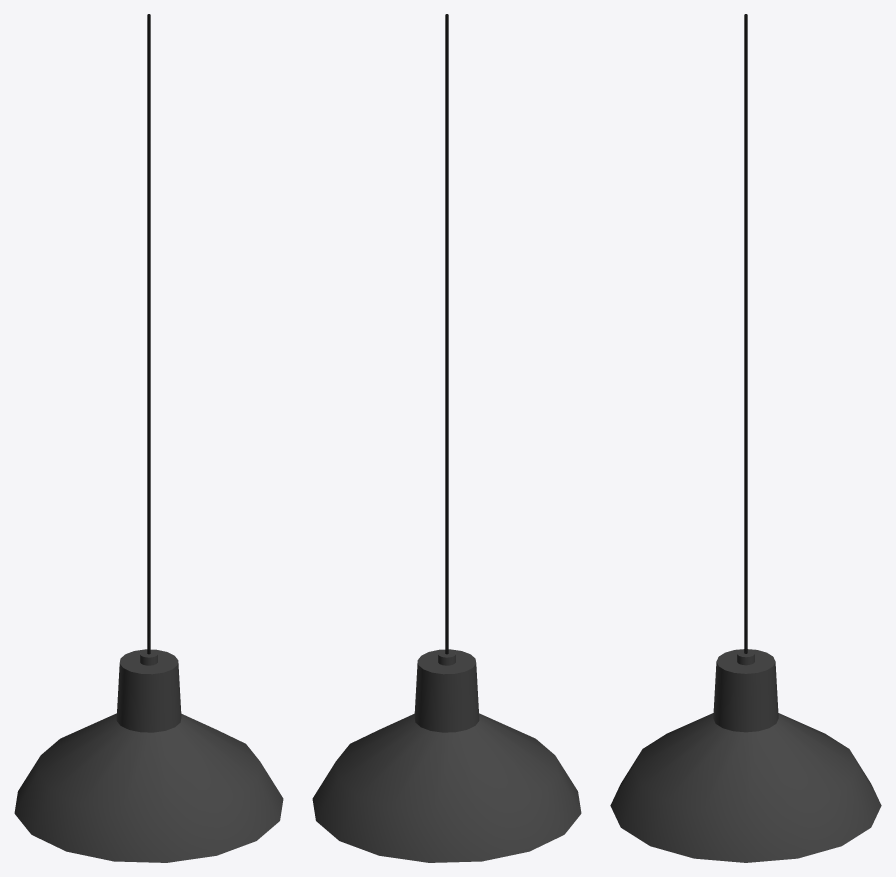
The model's file is light.fbx.
The picture shows the model from 3 angles, left to right: view 1: azimuth 30°, elevation 25°; view 2: azimuth 150°, elevation 25°; view 3: azimuth 270°, elevation 25°; orthographic projection.
Parts seen in each view (by area): view 1: Cylinder; view 2: Cylinder; view 3: Cylinder.
Part boxes in pixels (<box>): Cylinder: <box>14,14,283,862</box>; Cylinder: <box>312,14,581,862</box>; Cylinder: <box>610,14,881,862</box>.
Bounding box in the file's own units: 804 × 2636 × 804.
